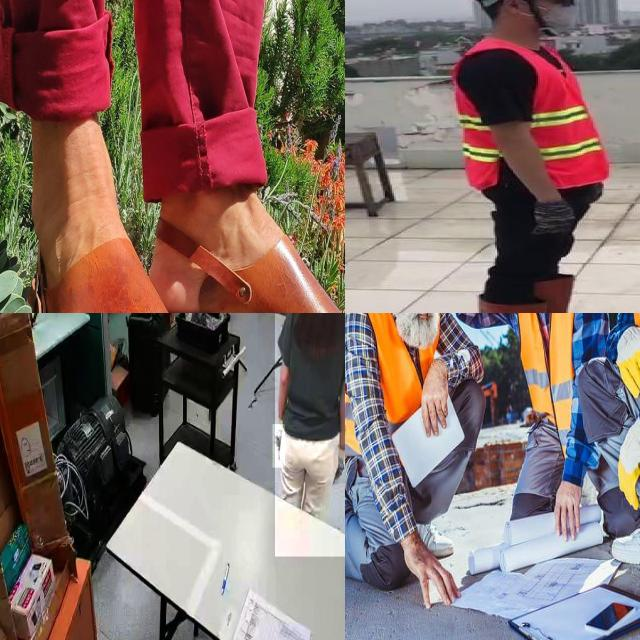Sandals: (27, 227, 213, 313)
boots: (536, 276, 620, 313)
face_nomask: (395, 313, 439, 350)
hand_glove: (272, 424, 286, 469), (333, 444, 345, 484)
hand_noglove: (400, 530, 460, 608), (421, 358, 449, 436), (618, 418, 640, 509), (616, 326, 640, 397), (555, 482, 581, 540)
person: (437, 0, 634, 313), (275, 313, 345, 557)
vest: (451, 38, 609, 188)
